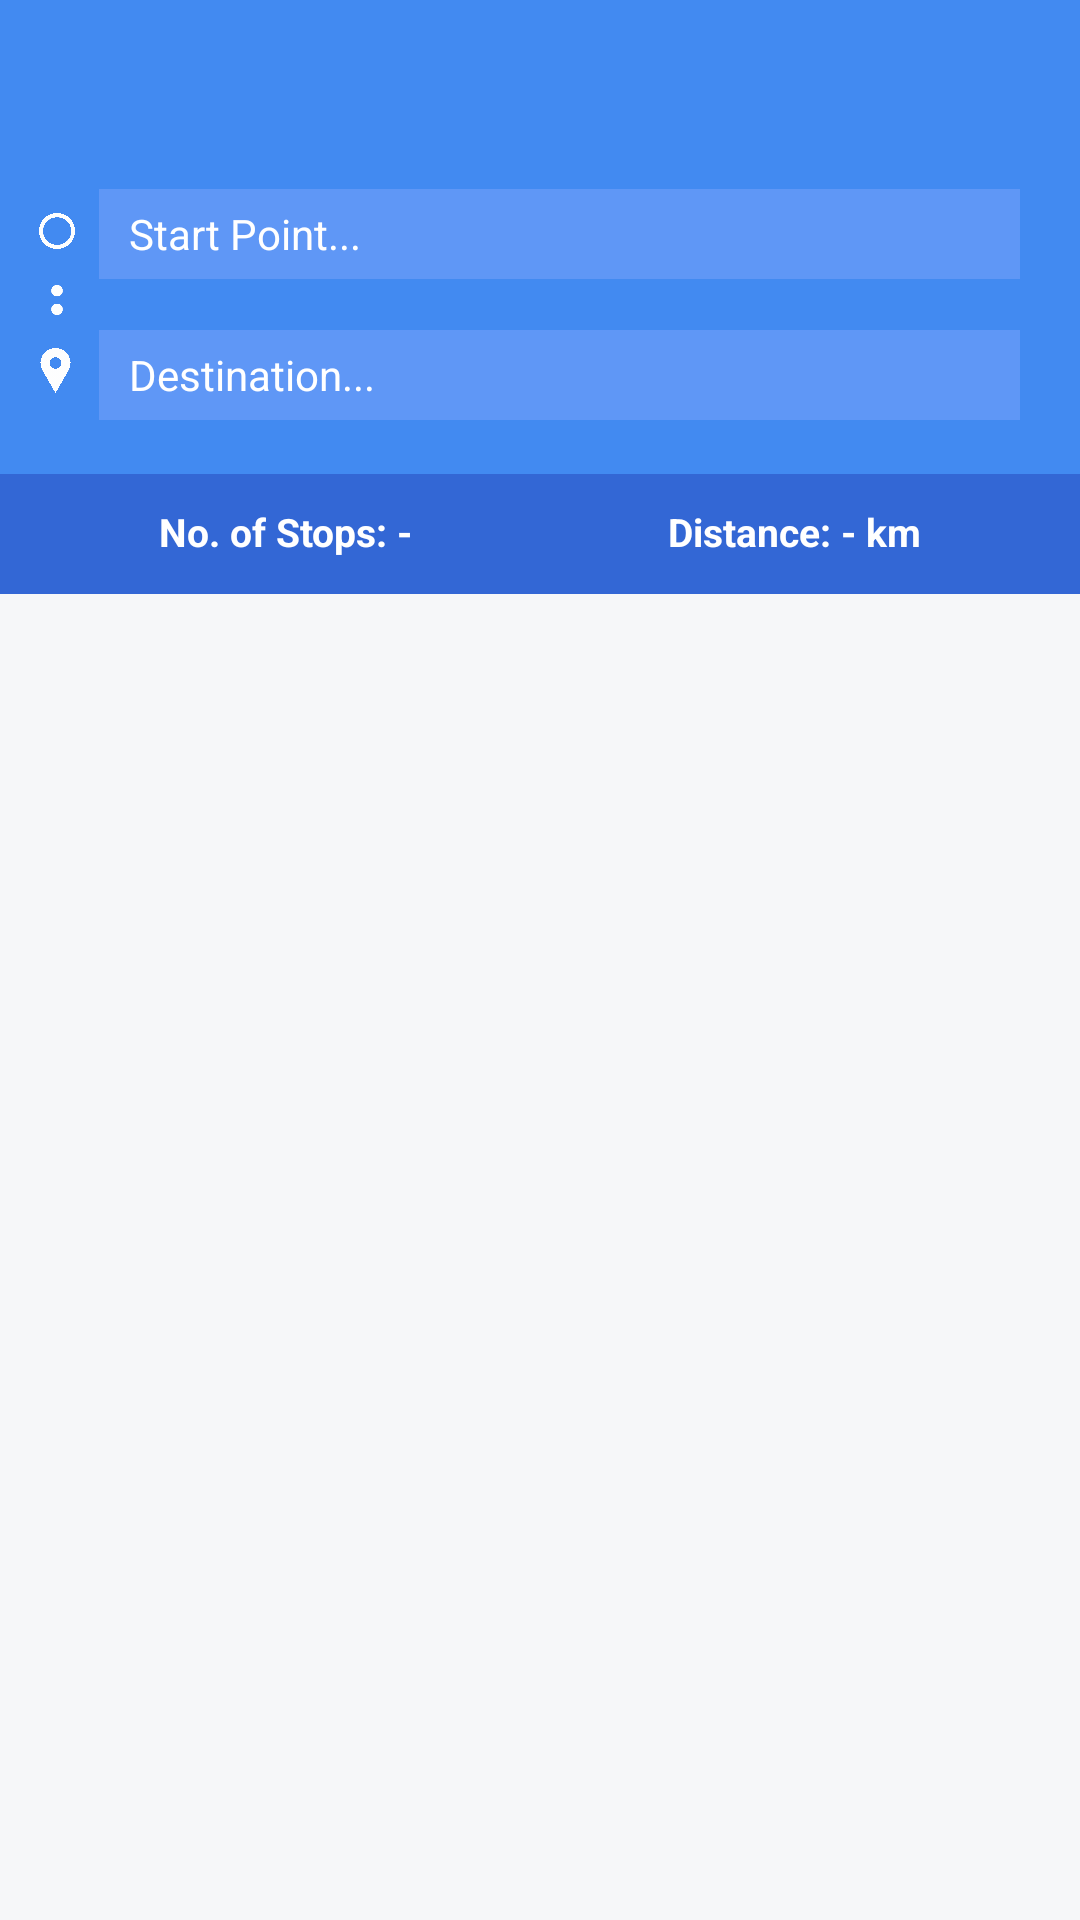

Icon bounding boxes for this 1080x1920 phone screenshot, format (x1, y1, x2, y2):
pin: (40, 348, 71, 393)
startring: (39, 213, 75, 249)
